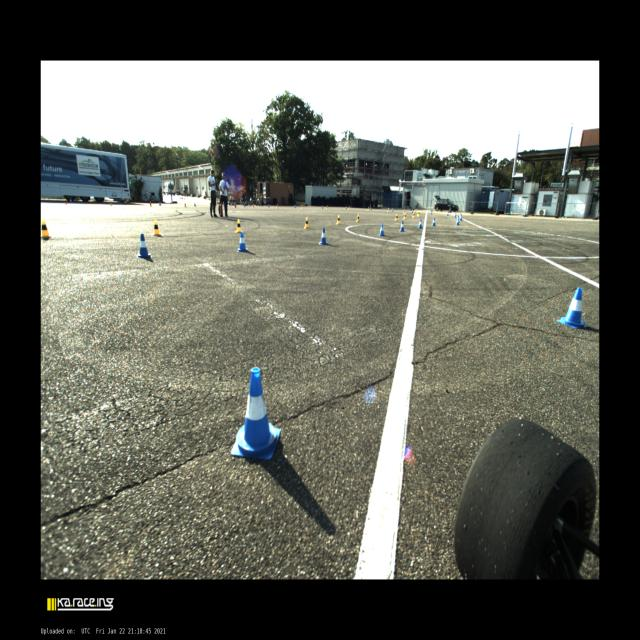blue_cone: (231, 368, 280, 458), (557, 288, 586, 328), (136, 234, 152, 258), (238, 231, 248, 252), (319, 228, 327, 245), (378, 223, 384, 236), (400, 221, 404, 231), (418, 219, 422, 228), (432, 218, 436, 226), (456, 219, 460, 225), (454, 212, 457, 218), (460, 215, 462, 220), (446, 211, 448, 216), (430, 210, 432, 215), (159, 201, 161, 206), (194, 202, 196, 207), (268, 204, 270, 208), (294, 204, 296, 208), (370, 207, 372, 210), (392, 207, 393, 212), (322, 205, 323, 209), (346, 206, 347, 209), (244, 204, 245, 207), (412, 210, 413, 212)
yellow_cone: (41, 219, 52, 237), (153, 220, 161, 235), (234, 218, 240, 232), (304, 217, 310, 228), (336, 215, 340, 224), (394, 214, 398, 221), (356, 214, 359, 222), (403, 212, 406, 220), (184, 202, 187, 208), (412, 213, 415, 218), (149, 201, 152, 206), (403, 208, 405, 214), (252, 204, 255, 208), (418, 212, 420, 217), (326, 205, 328, 210), (276, 204, 278, 209), (301, 204, 303, 209), (414, 210, 416, 215), (387, 208, 389, 212), (348, 206, 350, 210), (368, 207, 370, 211)
